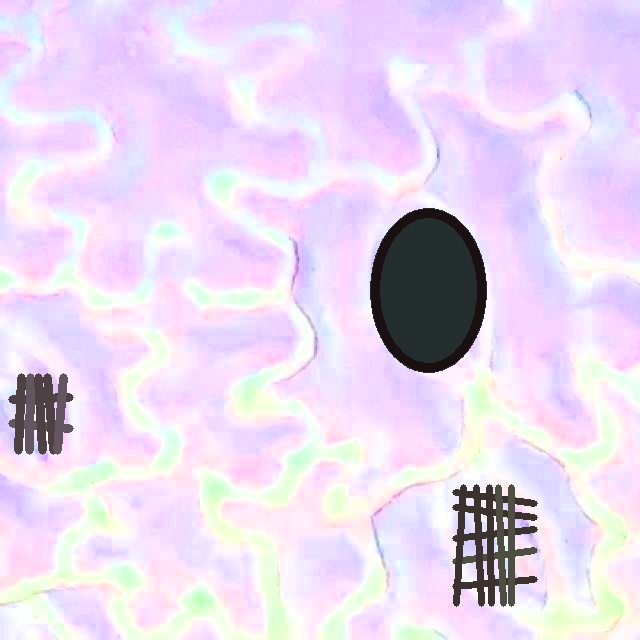open: (371, 208, 486, 371), (452, 484, 537, 606), (8, 373, 73, 454)
